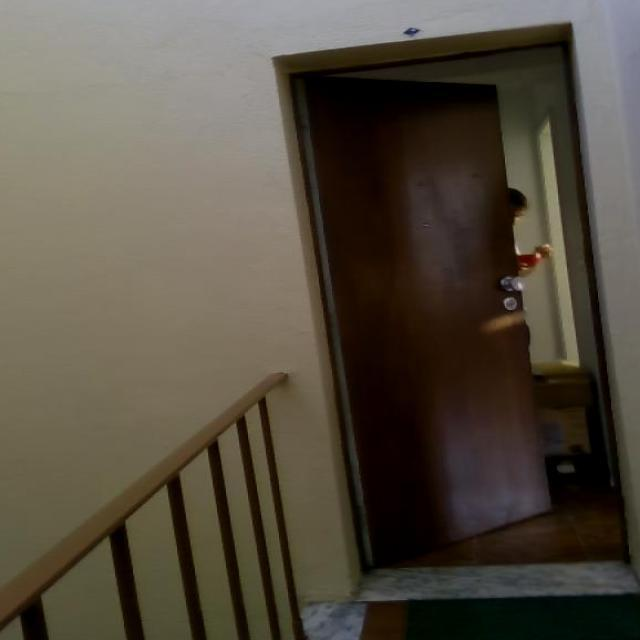door: (299, 73, 556, 569)
